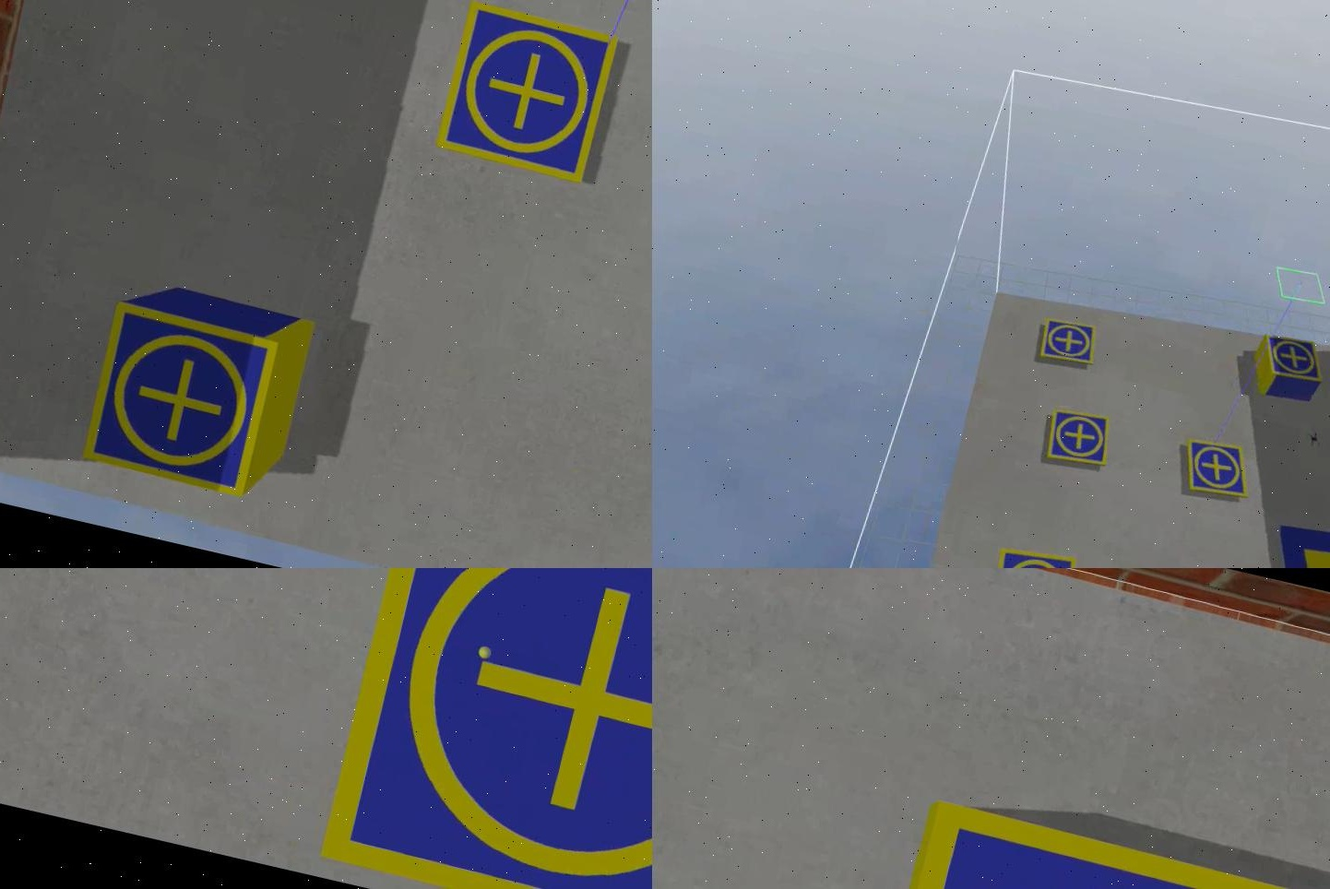small_base: (320, 568, 651, 889), (831, 794, 1328, 889), (77, 297, 282, 501), (429, 1, 620, 184), (1176, 435, 1255, 502), (1041, 404, 1114, 472), (1257, 330, 1328, 382), (1035, 314, 1100, 369), (989, 542, 1079, 568)
